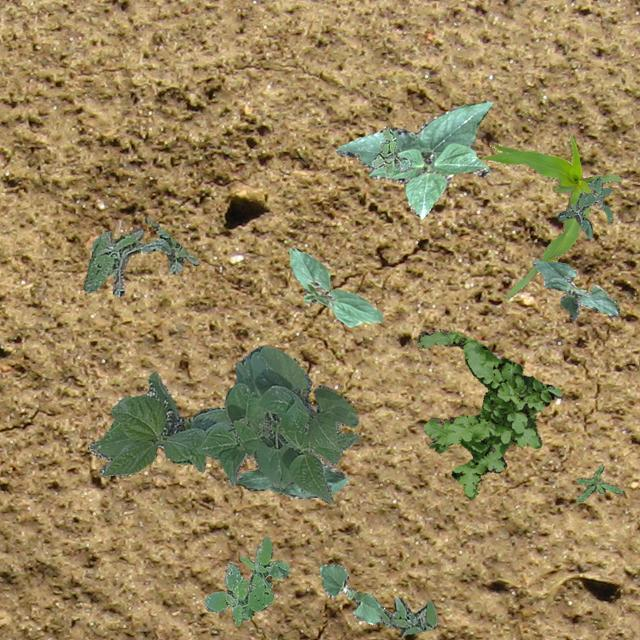crop: (196, 344, 360, 502), (481, 133, 622, 300), (334, 100, 492, 218), (86, 370, 230, 476), (288, 247, 382, 326), (532, 260, 618, 318), (318, 562, 386, 624), (234, 462, 348, 498)
weed: (416, 328, 560, 498), (82, 216, 200, 296), (204, 536, 288, 624), (556, 175, 612, 238), (378, 596, 436, 634), (370, 126, 410, 176), (576, 464, 622, 501)
